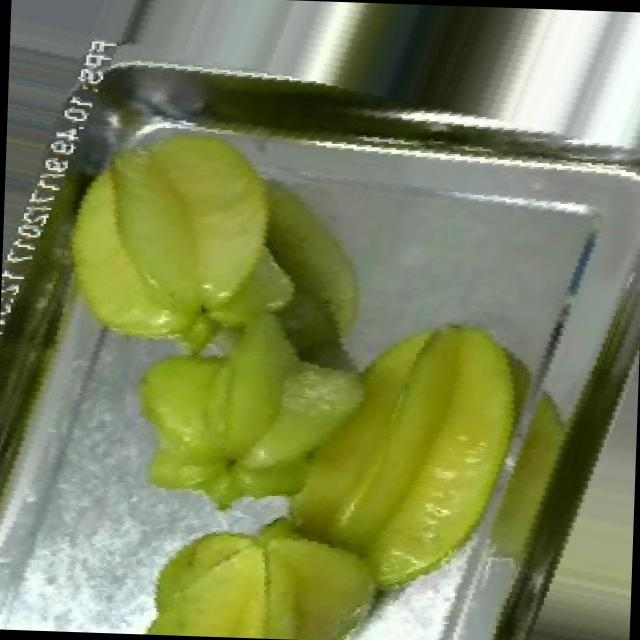fruit: (96, 292, 508, 614), (17, 88, 326, 380), (95, 494, 410, 640)
